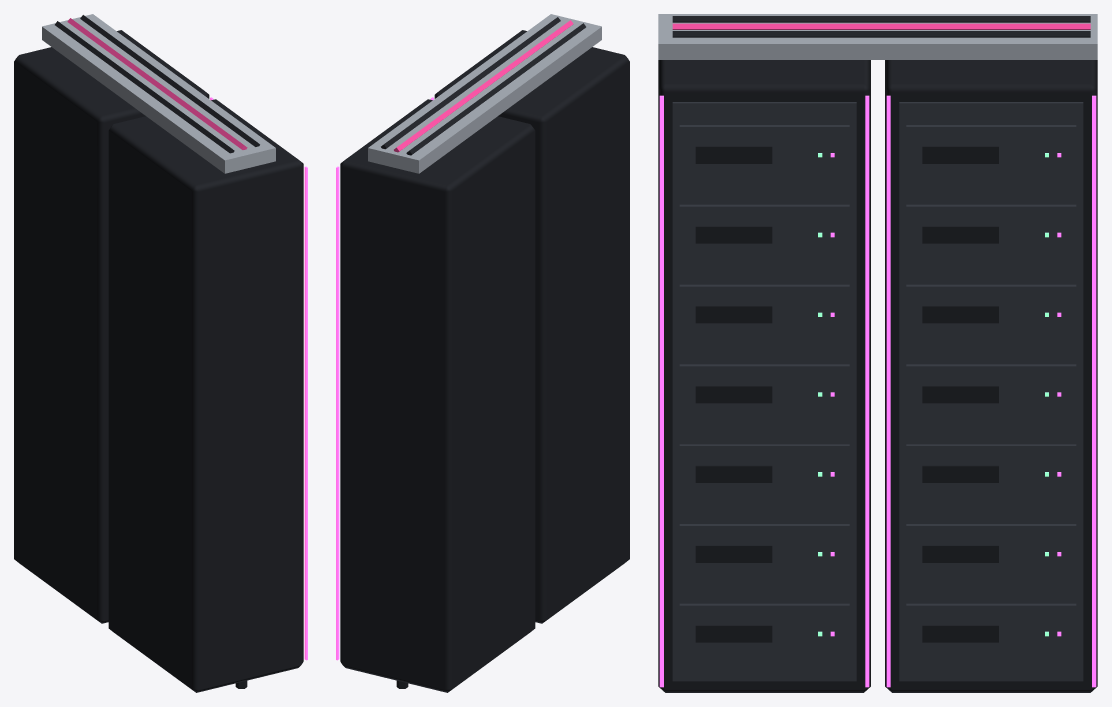
File: station_transport_ausstattung_1_3.glb
3 renders of one model, left to right at view 1: azimuth 30°, elevation 25°; view 2: azimuth 150°, elevation 25°; view 3: azimuth 270°, elevation 25°, orthographic. The views are drawn at different scales.
Parts seen in each view (by area): view 1: station_transport_ausstattung_1_3; view 2: station_transport_ausstattung_1_3; view 3: station_transport_ausstattung_1_3.
Boxes of the visible parts, box(x1,y1,x2,y2) form: station_transport_ausstattung_1_3: box(14, 14, 307, 692); station_transport_ausstattung_1_3: box(336, 14, 629, 692); station_transport_ausstattung_1_3: box(658, 14, 1097, 692).
Size of the model in its own units: 0.466 by 2.03 by 1.24.
